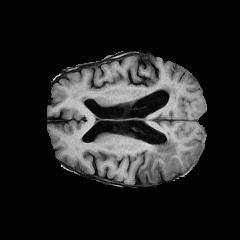glioma: (141, 131, 178, 179)
